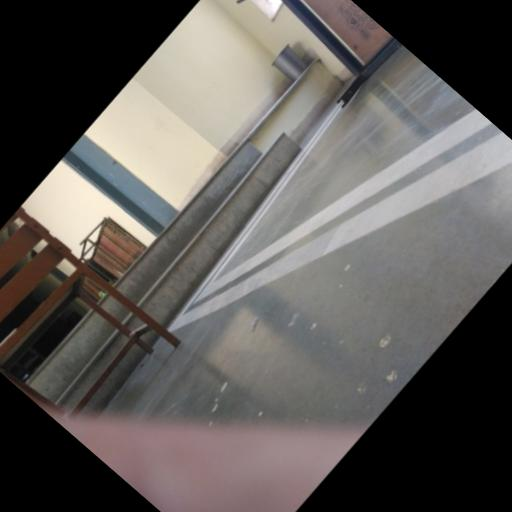stairs: (116, 133, 300, 325)
